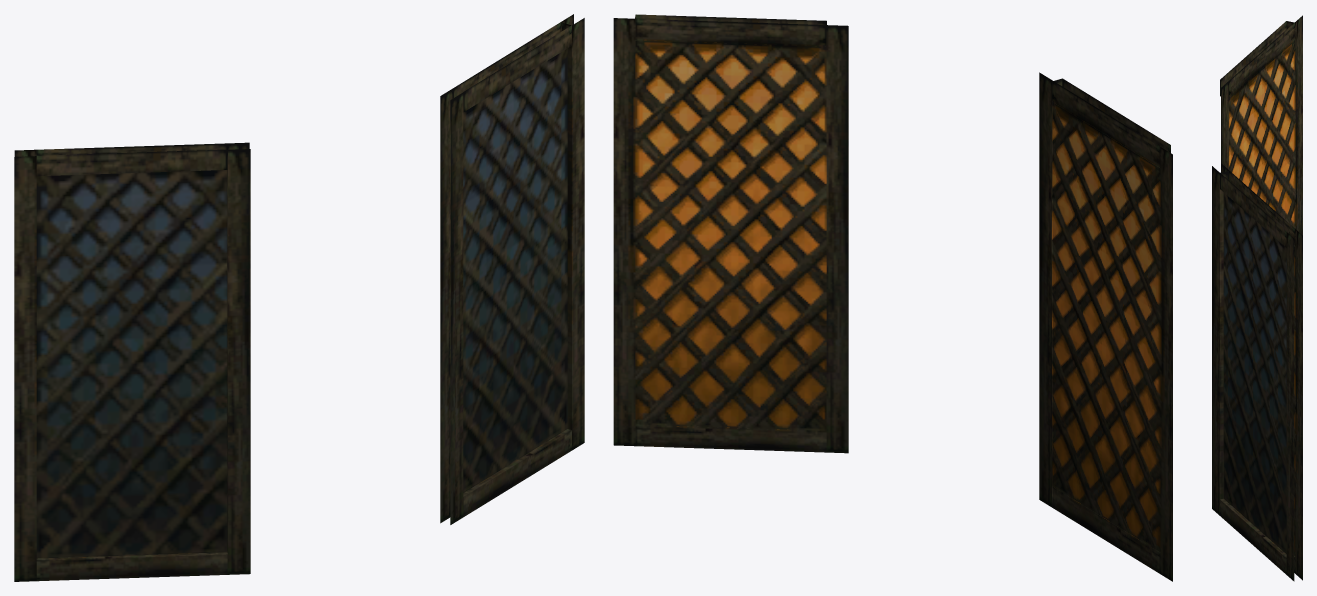
File: LAKETOWN_EXTERIOR_PS_LT_WINDOW_LONG_LOD1_59.fbx
The picture shows the model from 3 angles, left to right: view 1: azimuth 30°, elevation 25°; view 2: azimuth 150°, elevation 25°; view 3: azimuth 270°, elevation 25°; orthographic projection. The views are drawn at different scales.
Visible parts, largest first — view 1: LAKETOWN_EXTERIOR_PS_LT_WINDOW_LONG_LOD1_59; view 2: LAKETOWN_EXTERIOR_PS_LT_WINDOW_LONG_LOD1_59; view 3: LAKETOWN_EXTERIOR_PS_LT_WINDOW_LONG_LOD1_59.
Boxes of the visible parts, x1,y1,x2,y2 form: LAKETOWN_EXTERIOR_PS_LT_WINDOW_LONG_LOD1_59: (14, 14, 584, 581); LAKETOWN_EXTERIOR_PS_LT_WINDOW_LONG_LOD1_59: (613, 14, 1172, 581); LAKETOWN_EXTERIOR_PS_LT_WINDOW_LONG_LOD1_59: (1212, 15, 1302, 581).
Size of the model in its own units: 20751 by 14850 by 3545.
2 materials, 2 textured.
